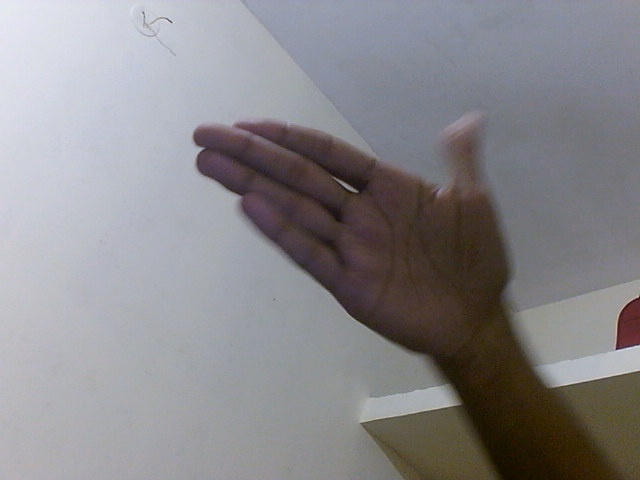hand: (193, 112, 520, 386)
